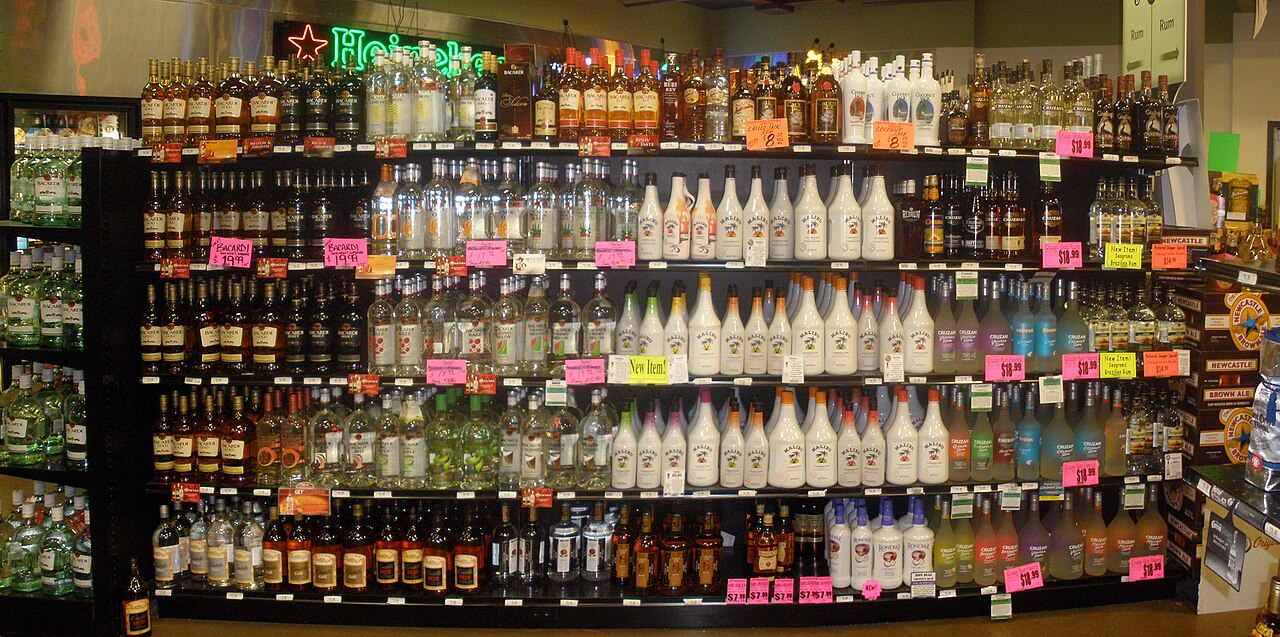unknown_bottle: (767, 387, 805, 491), (688, 274, 721, 380), (687, 389, 721, 489), (804, 389, 837, 490), (885, 386, 918, 487), (917, 389, 949, 486), (716, 165, 744, 266), (744, 166, 770, 267), (610, 401, 638, 491), (719, 395, 745, 490), (744, 286, 771, 376), (662, 398, 687, 495), (720, 285, 746, 377), (836, 405, 863, 489), (769, 169, 793, 263), (744, 401, 769, 489)
